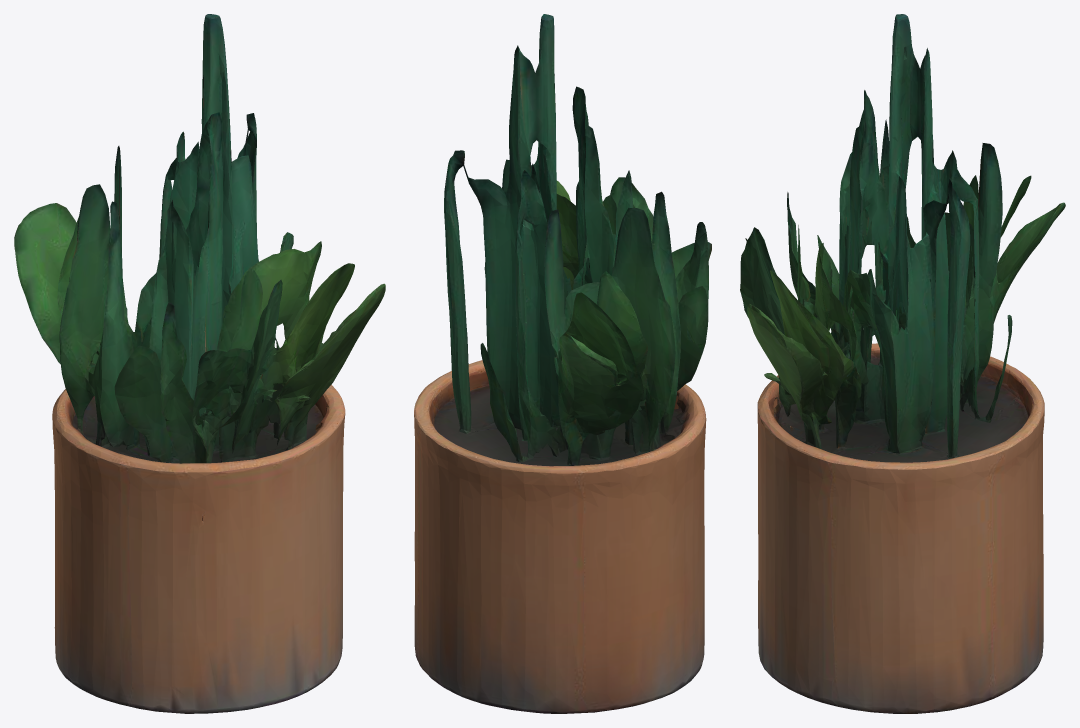
The model's file is small_potted_plant_on_floor_000.glb.
3 renders of one model, left to right at view 1: azimuth 30°, elevation 25°; view 2: azimuth 150°, elevation 25°; view 3: azimuth 270°, elevation 25°, orthographic.
Visible parts, largest first — view 1: phase2_final_small_potted_plant_on_floor_000.obj; view 2: phase2_final_small_potted_plant_on_floor_000.obj; view 3: phase2_final_small_potted_plant_on_floor_000.obj.
Boxes of the visible parts, x1,y1,x2,y2 form: phase2_final_small_potted_plant_on_floor_000.obj: (14, 14, 385, 713); phase2_final_small_potted_plant_on_floor_000.obj: (414, 14, 711, 713); phase2_final_small_potted_plant_on_floor_000.obj: (740, 14, 1065, 713).
Size of the model in its own units: 0.1209 by 0.2876 by 0.1321.
Materials: 1 (1 with a texture image).
